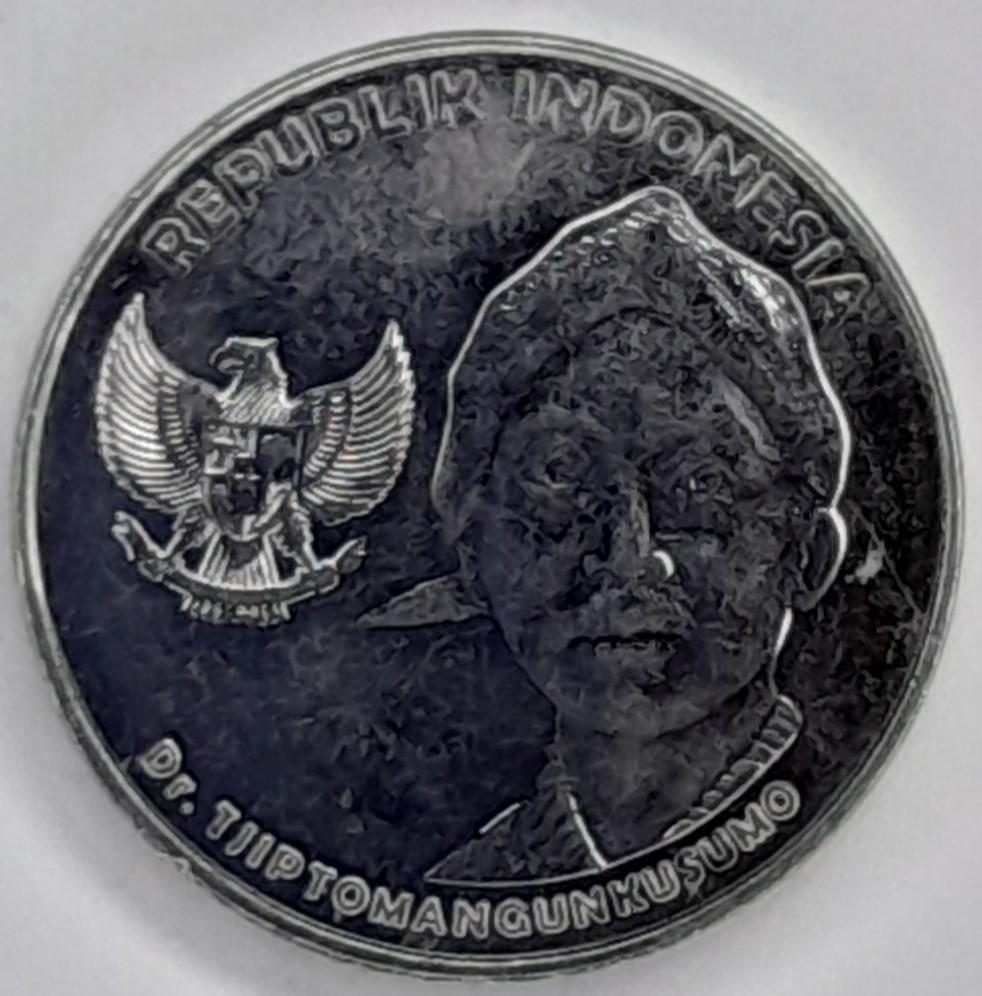coin_200_e2016: (0, 17, 982, 996)
